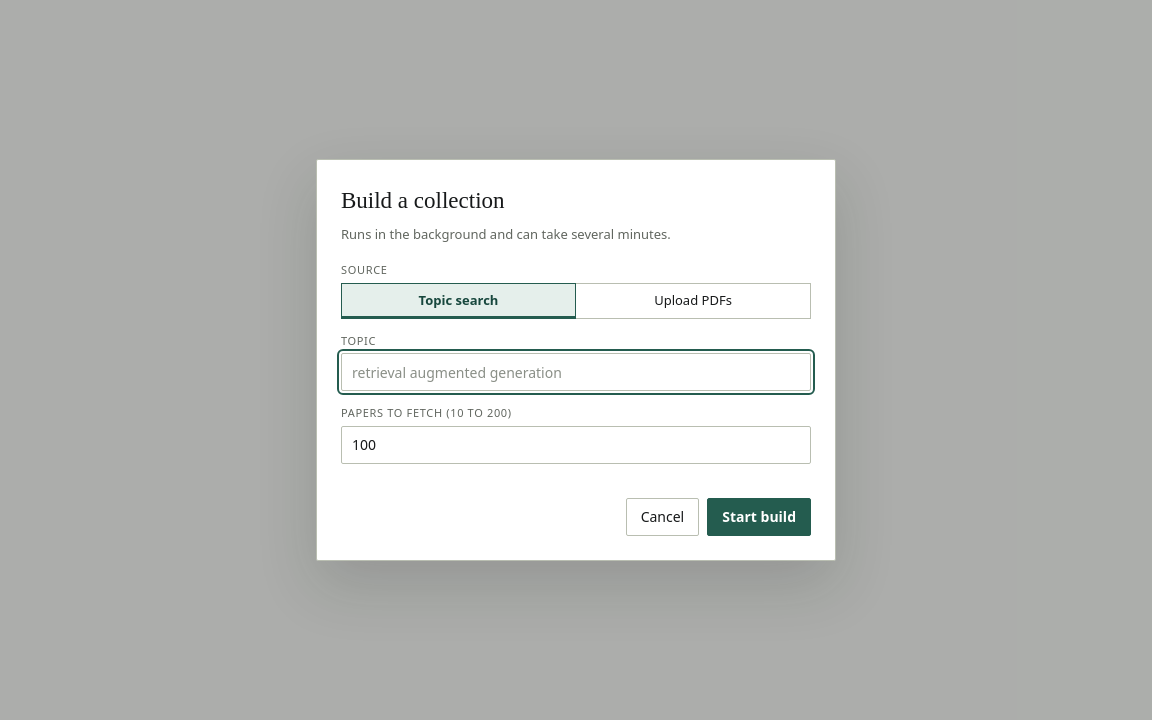
it: build dialog — upload mode › refuses to submit with no files chosen
Click the radio button labelled "Upload PDFs" at coordinates (694, 301), box [576,283,811,319]
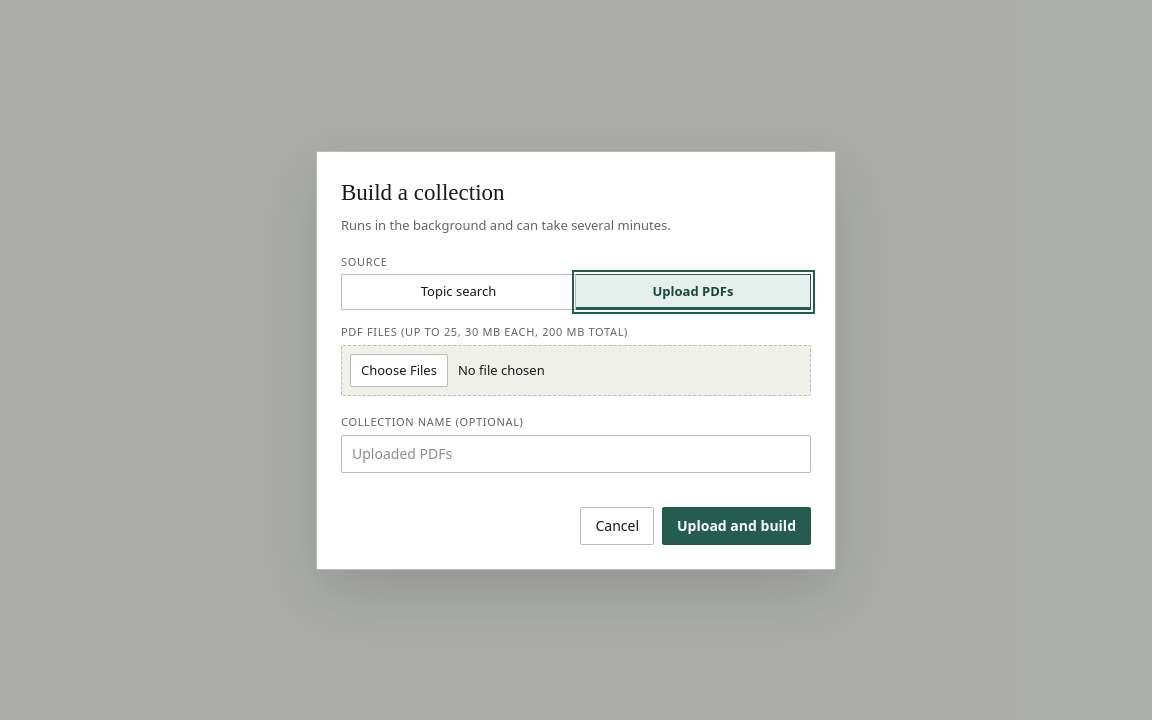
Click the button "Upload and build" at coordinates (736, 526), box [662,506,811,544]
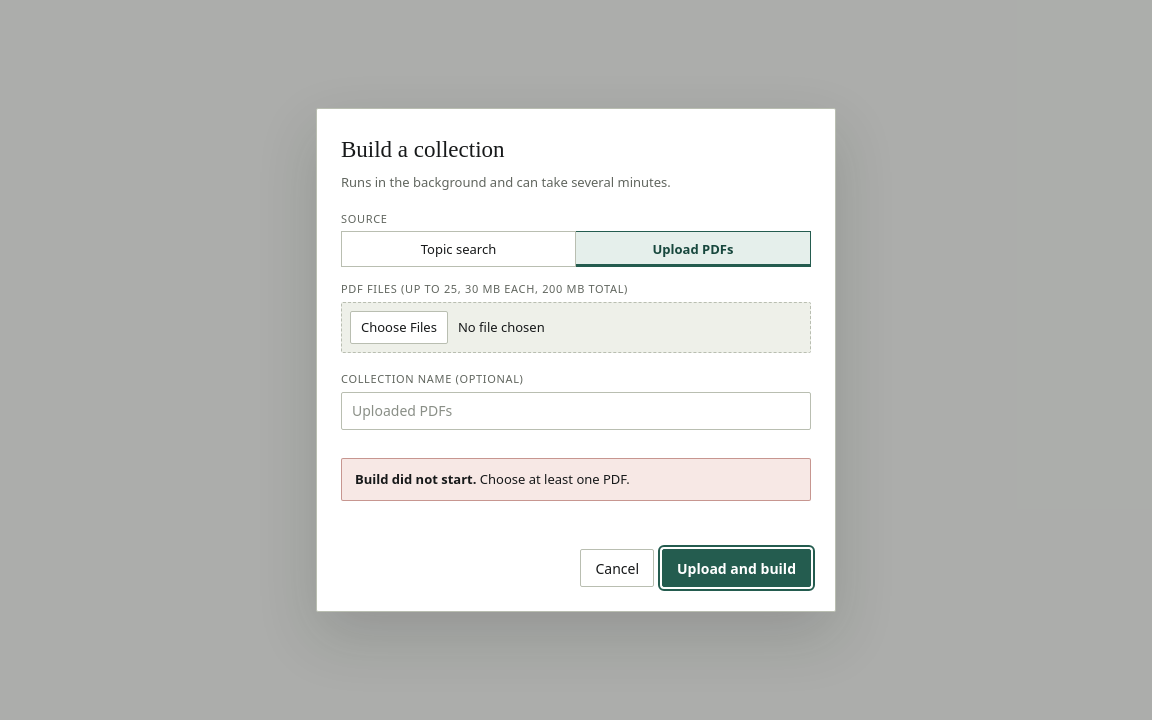
Check: the text "Choose at least one PDF." is shown, box [480,470,630,488]
